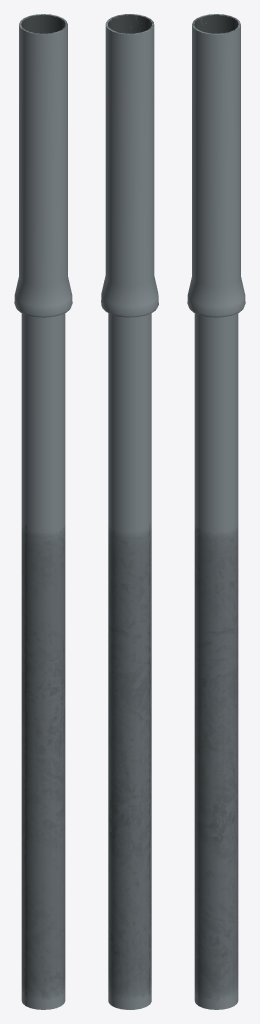
The model's file is Tuyau_V2.fbx.
The picture shows the model from 3 angles, left to right: view 1: azimuth 90°, elevation 25°; view 2: azimuth 210°, elevation 25°; view 3: azimuth 270°, elevation 25°; orthographic projection.
Visible parts, largest first — view 1: Tuyau_V2; view 2: Tuyau_V2; view 3: Tuyau_V2.
Part boxes in pixels (x1=…): Tuyau_V2: x1=14, y1=14, x2=72, y2=1009; Tuyau_V2: x1=101, y1=14, x2=158, y2=1009; Tuyau_V2: x1=187, y1=14, x2=245, y2=1009.
Size of the model in its own units: 0.1188 by 2.2 by 0.1188.
Materials: 1 (1 with a texture image).
